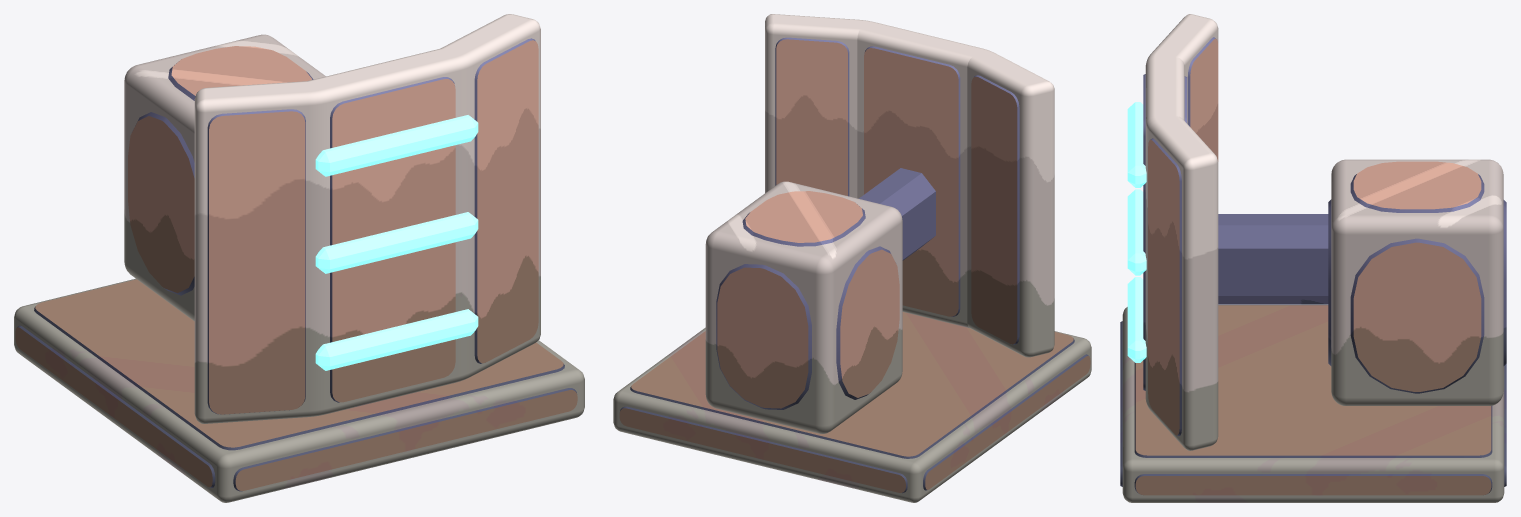
File: R4X_DirectionalShield.glb
The picture shows the model from 3 angles, left to right: view 1: azimuth 30°, elevation 25°; view 2: azimuth 150°, elevation 25°; view 3: azimuth 270°, elevation 25°; orthographic projection. The views are drawn at different scales.
Parts seen in each view (by area): view 1: R4X_DirectionalShield_Body; view 2: R4X_DirectionalShield_Body; view 3: R4X_DirectionalShield_Body.
Boxes of the visible parts, box(x1,y1,x2,y2) form: R4X_DirectionalShield_Body: box(14, 14, 584, 502); R4X_DirectionalShield_Body: box(613, 14, 1091, 502); R4X_DirectionalShield_Body: box(1120, 14, 1506, 502).
Size of the model in its own units: 0.52 by 0.507 by 0.52.
4 materials, 3 textured.
